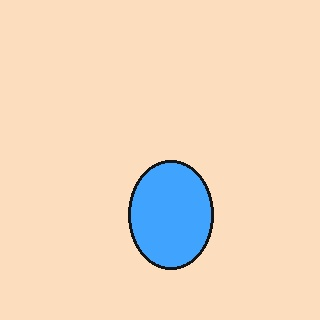circle_target: (128, 161, 214, 269)
